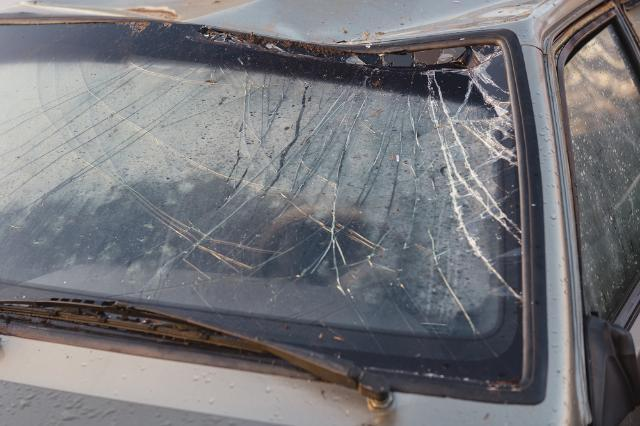dent: (201, 2, 545, 43)
glass shatter: (0, 22, 526, 387)
